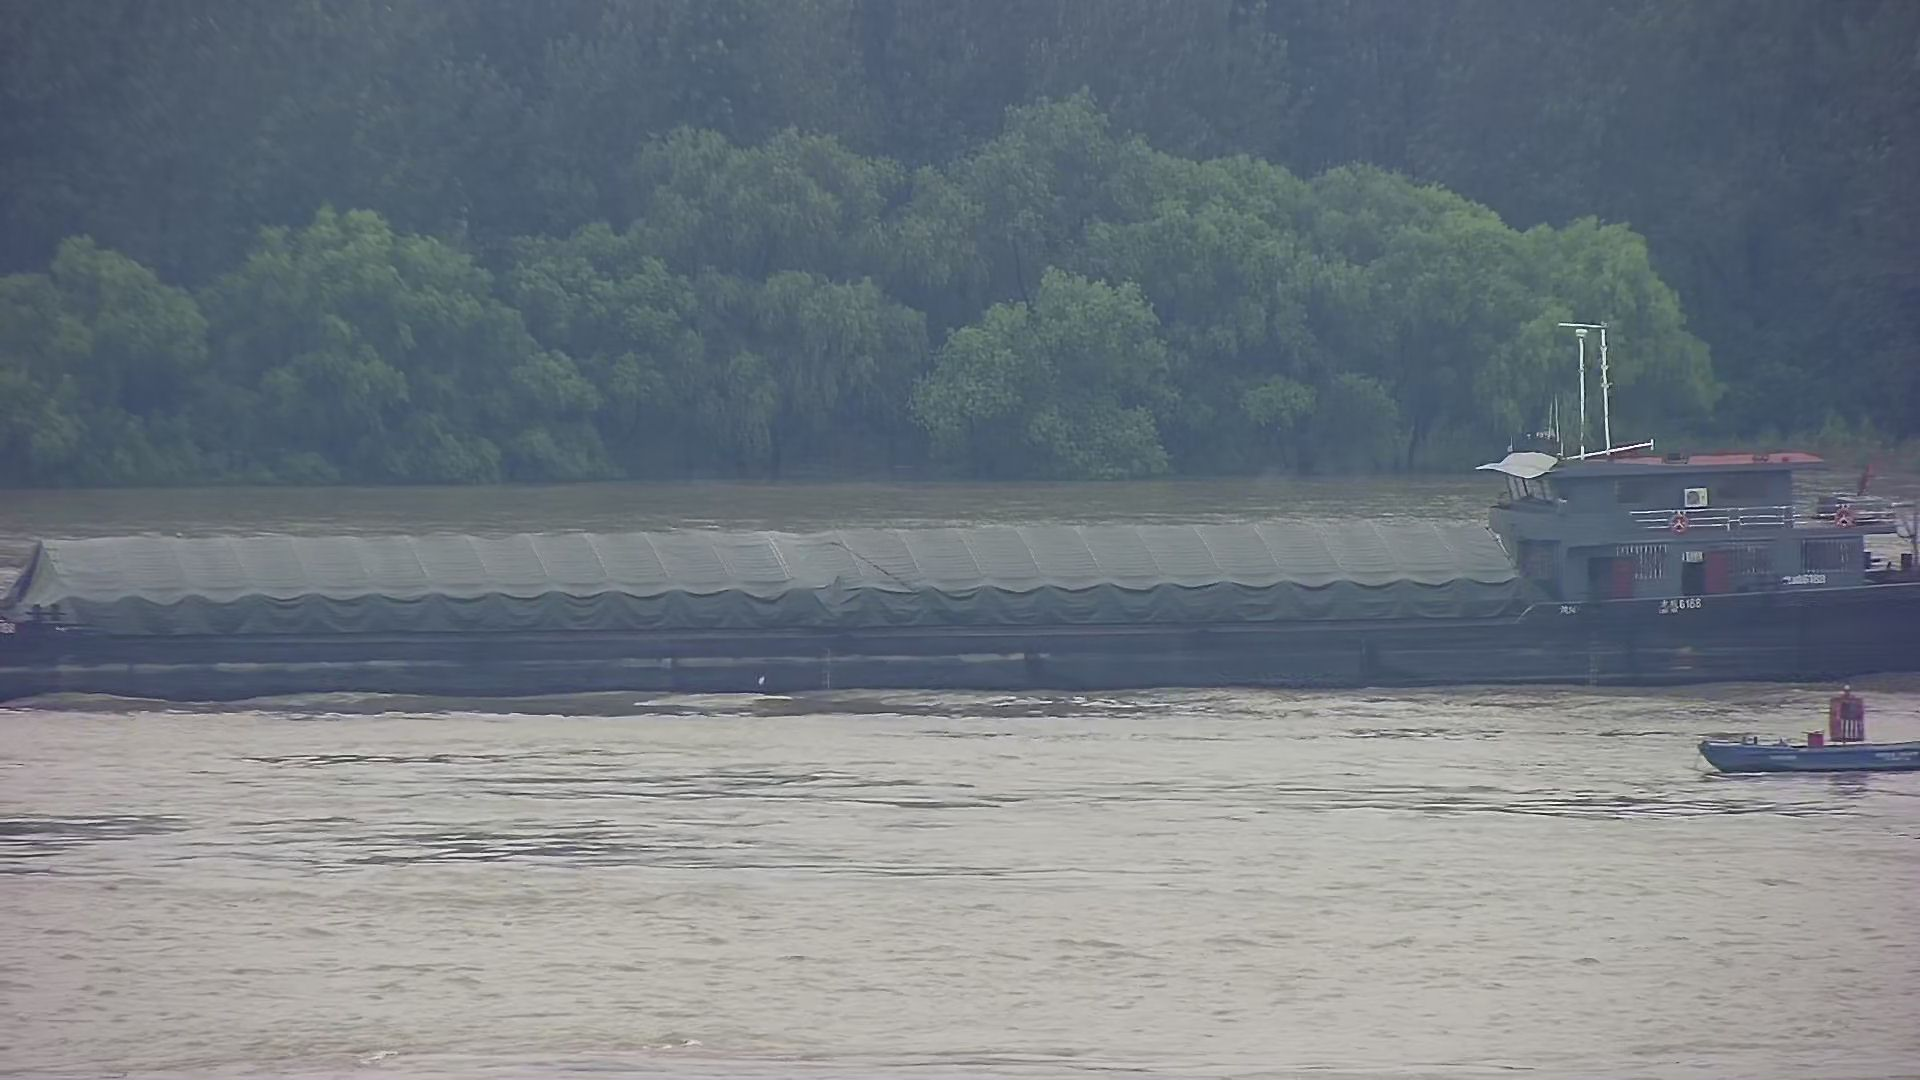boat: (1685, 676, 1920, 783)
ship: (1, 313, 1920, 683)
